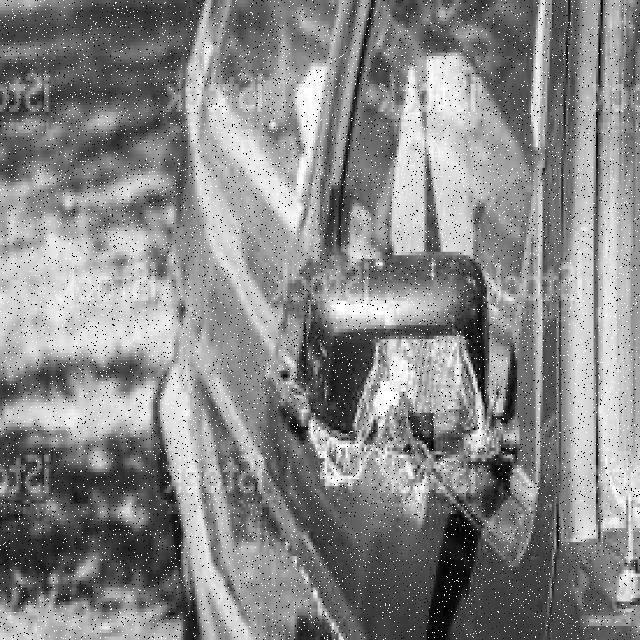Sidemirror-Damage: (286, 242, 501, 497)
